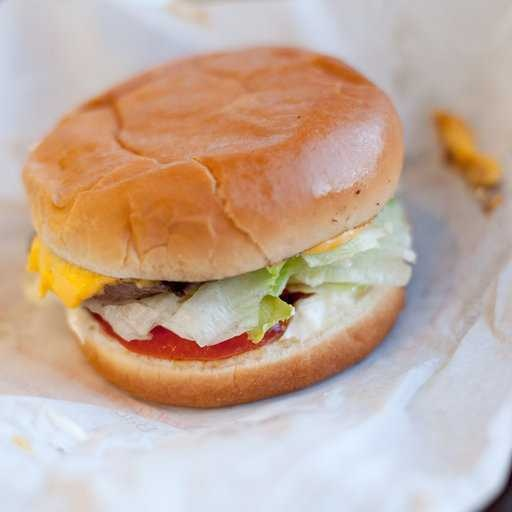hamburger: (26, 56, 413, 402)
